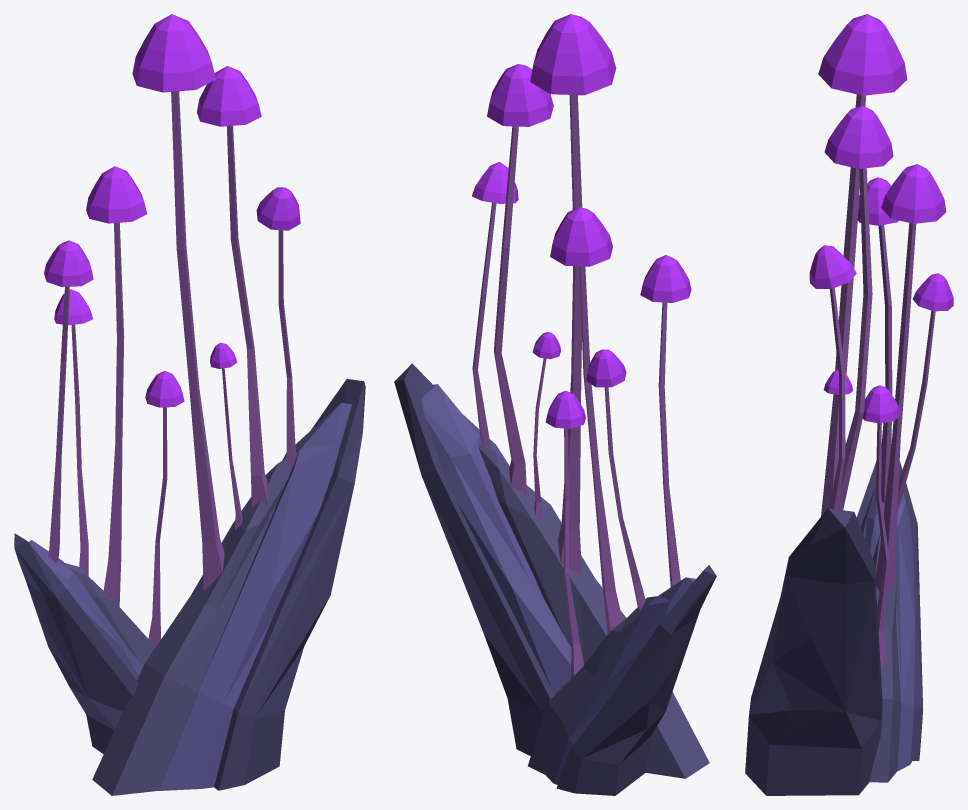
File: VL_Plant06.fbx
3 renders of one model, left to right at view 1: azimuth 30°, elevation 25°; view 2: azimuth 150°, elevation 25°; view 3: azimuth 270°, elevation 25°, orthographic. The views are drawn at different scales.
Parts seen in each view (by area): view 1: VL_Plant06; view 2: VL_Plant06; view 3: VL_Plant06.
Part boxes in pixels (x1,y1,x2,y2): VL_Plant06: (14,14,365,795); VL_Plant06: (394,14,716,795); VL_Plant06: (745,14,953,795).
Size of the model in its own units: 50.72 by 107 by 26.79.
Materials: 1 (1 with a texture image).
